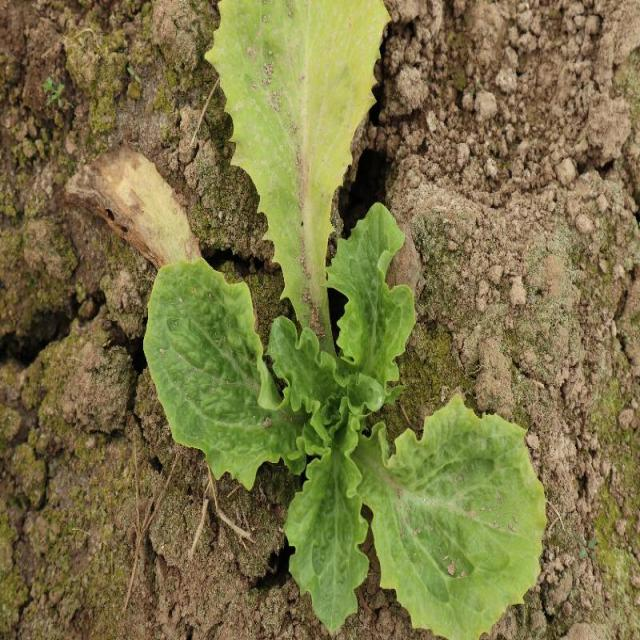crop: (149, 204, 546, 640)
